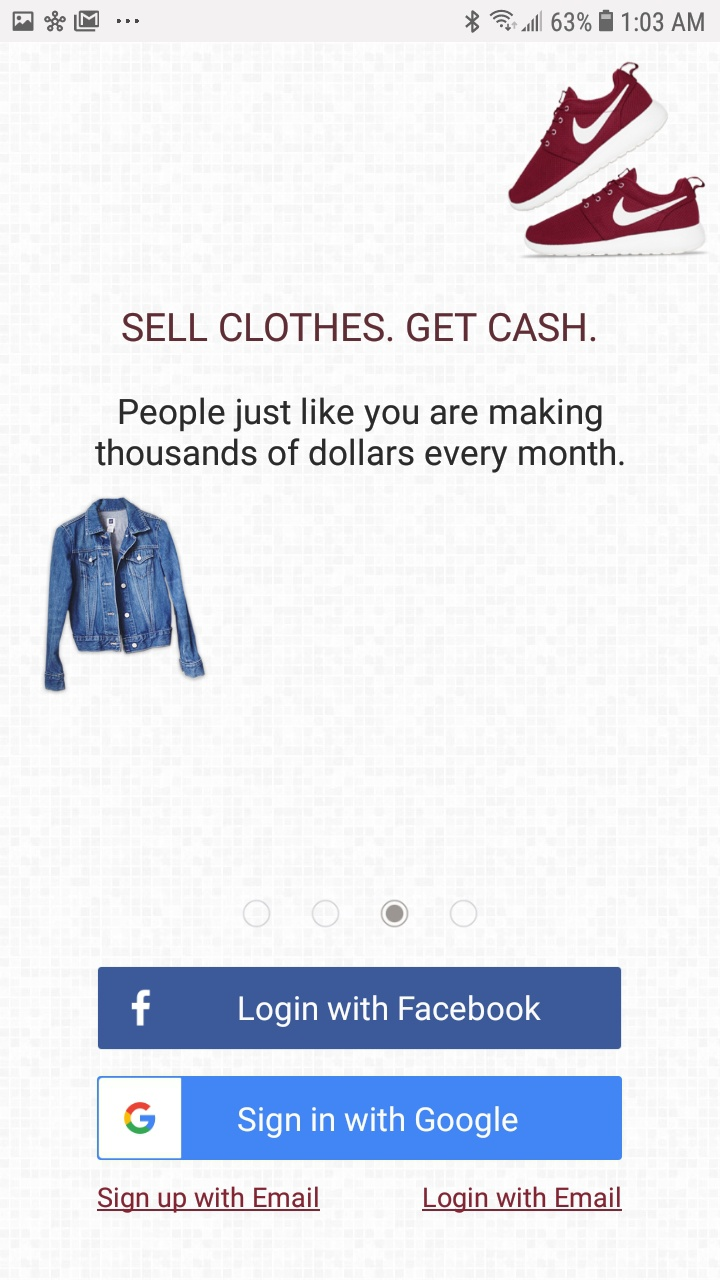Image: (507, 61, 707, 260), (44, 497, 206, 692)
PageIndicator: (243, 899, 479, 928)
Text: (95, 397, 625, 474), (122, 313, 596, 343), (97, 1186, 321, 1214), (422, 1185, 623, 1213)
TextButton: (98, 1075, 623, 1160), (99, 967, 622, 1050)
UpperTaskBar: (1, 1, 720, 43)
